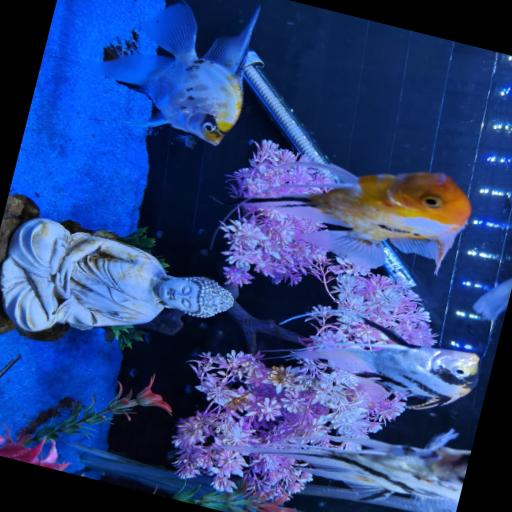Fish: (56, 1, 258, 145), (240, 162, 470, 272), (221, 430, 470, 511), (283, 317, 478, 409), (472, 278, 511, 319), (174, 135, 195, 148)
